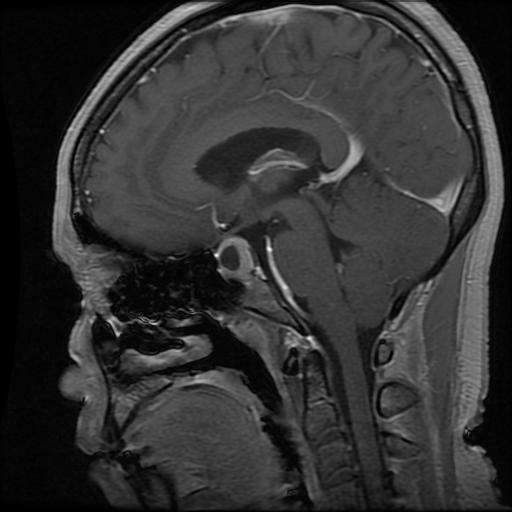Pituirity_tumour: (215, 237, 253, 278)
